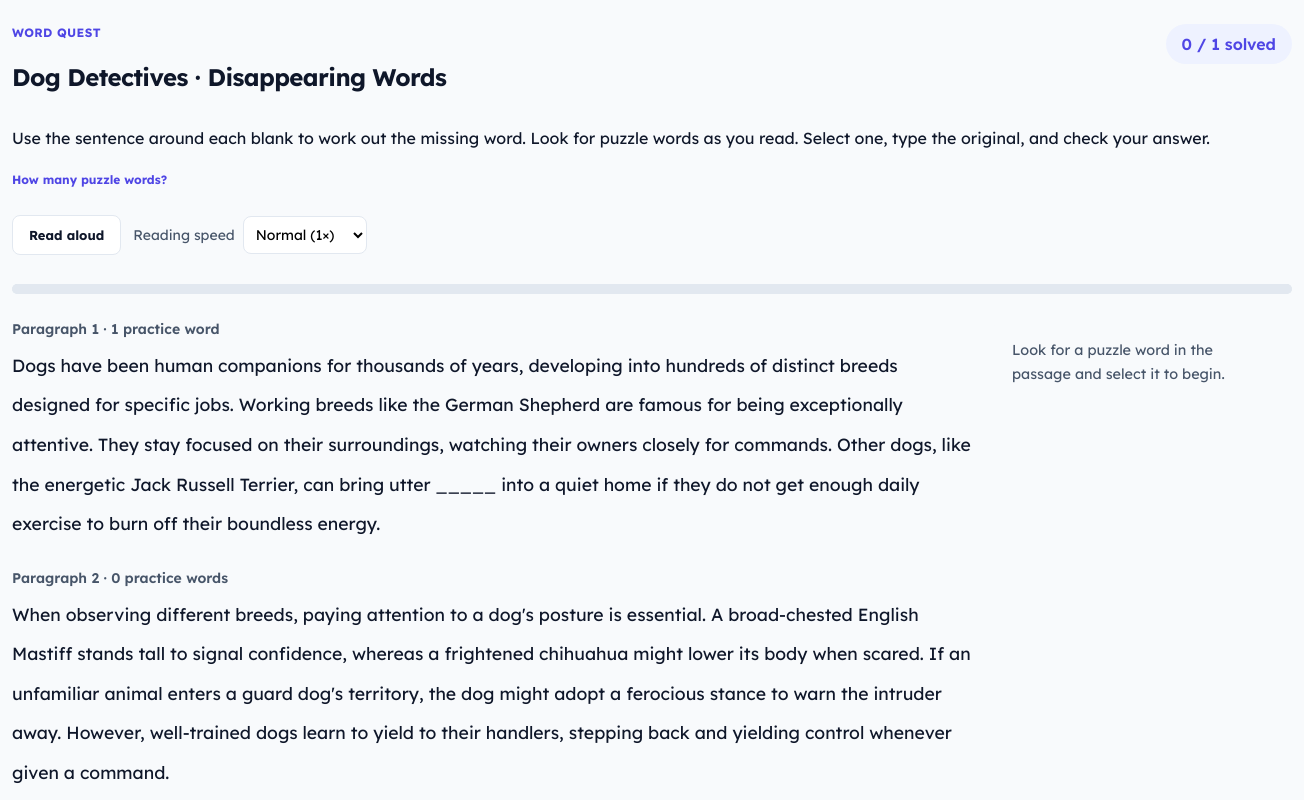
restores saved answers and hints
Click the button named "Challenge 1:" at (466, 484), box [436, 470, 496, 497]
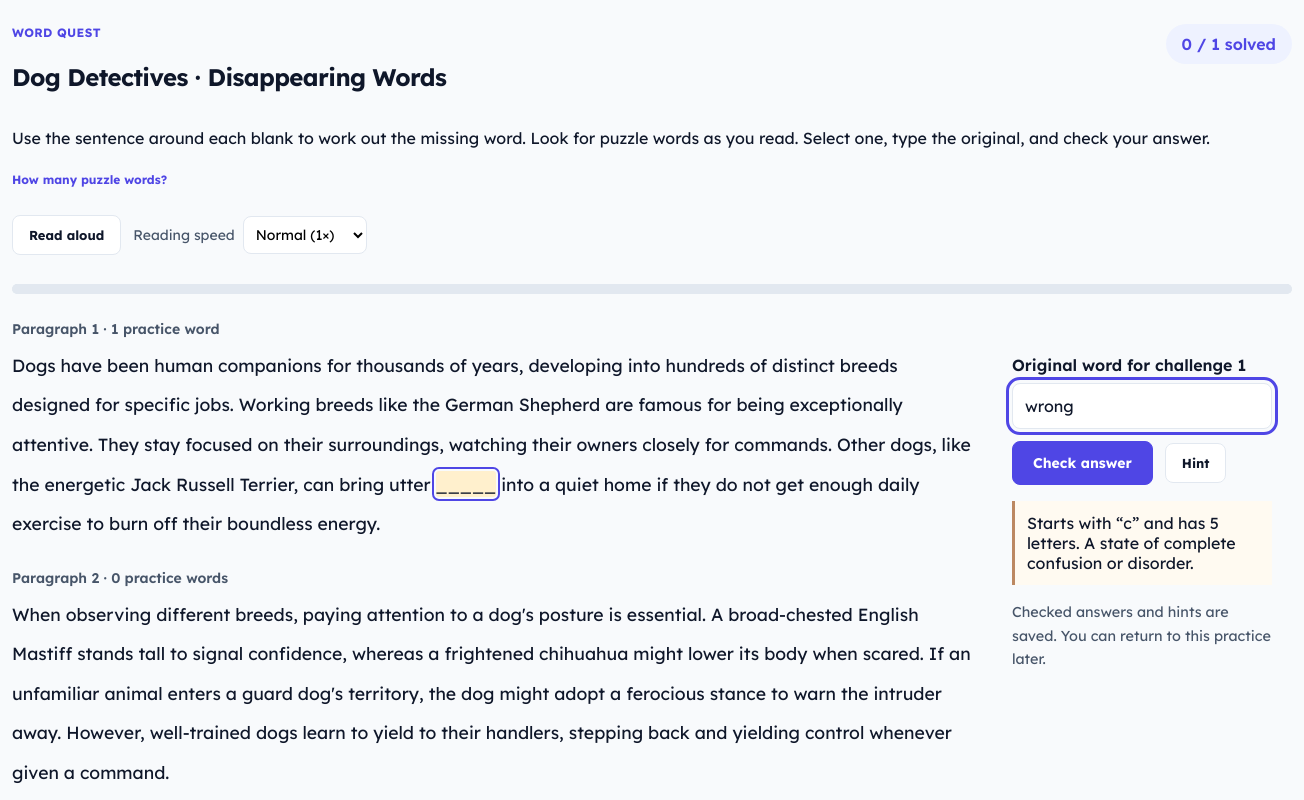
Result: the field labelled "Original word for challenge 1" holds "wrong" at [1012, 383, 1272, 429]
Result: the text "Starts with" is shown at [1027, 513, 1123, 533]
